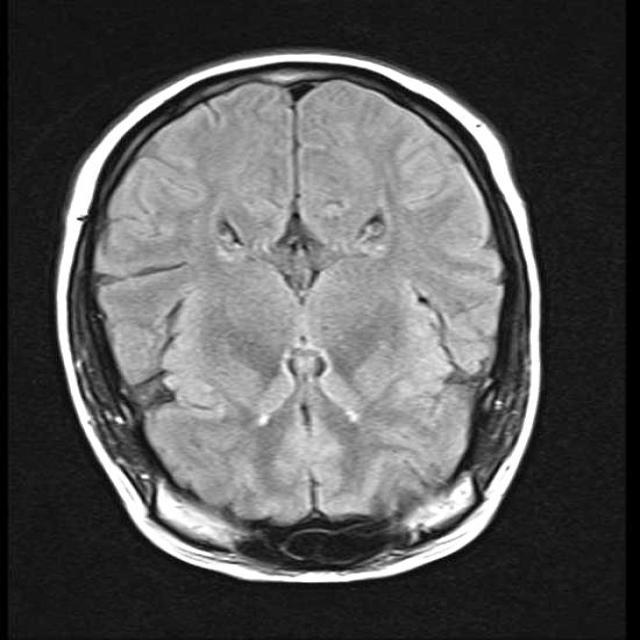notumor: (56, 51, 540, 581)
